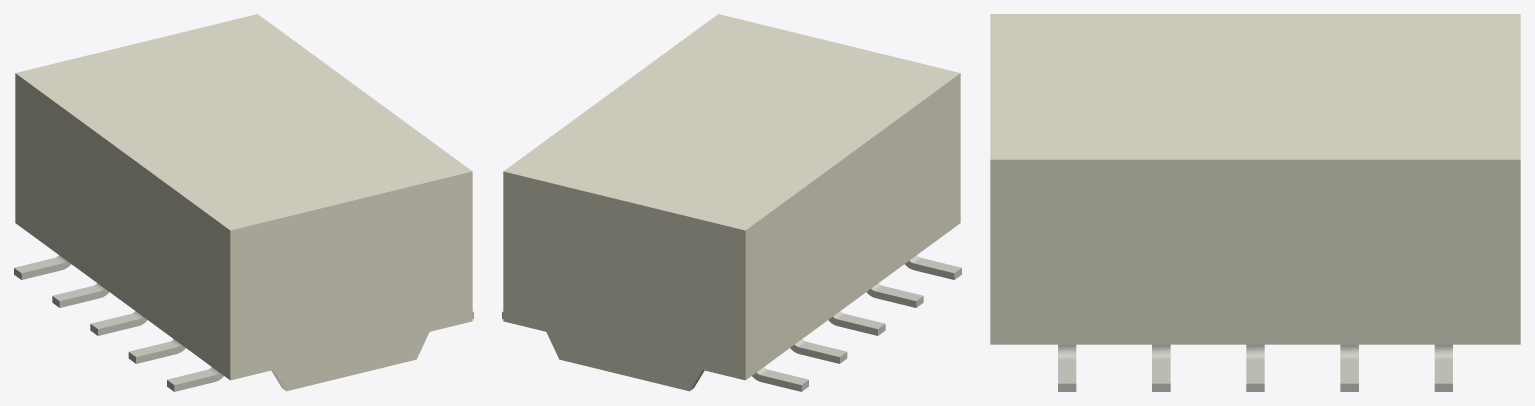
File: kc-relay_dpdt_omron_g6h-2f.glb
3 renders of one model, left to right at view 1: azimuth 30°, elevation 25°; view 2: azimuth 150°, elevation 25°; view 3: azimuth 270°, elevation 25°, orthographic. The views are drawn at different scales.
Visible parts, largest first — view 1: 0.75_0.75_0.6666666666666666_0, 0.6666666666666666_0.6666666666666666_0.5833333333333334_0.8; view 2: 0.75_0.75_0.6666666666666666_0, 0.6666666666666666_0.6666666666666666_0.5833333333333334_0.8; view 3: 0.75_0.75_0.6666666666666666_0, 0.6666666666666666_0.6666666666666666_0.5833333333333334_0.8.
Boxes of the visible parts, <box> form: 0.75_0.75_0.6666666666666666_0: <box>15,14,472,391</box>; 0.6666666666666666_0.6666666666666666_0.5833333333333334_0.8: <box>14,255,473,391</box>; 0.75_0.75_0.6666666666666666_0: <box>503,14,960,391</box>; 0.6666666666666666_0.6666666666666666_0.5833333333333334_0.8: <box>502,255,961,391</box>; 0.75_0.75_0.6666666666666666_0: <box>990,14,1520,344</box>; 0.6666666666666666_0.6666666666666666_0.5833333333333334_0.8: <box>1058,344,1452,391</box>.
Size of the model in its own units: 1.15 by 0.64 by 1.43.
